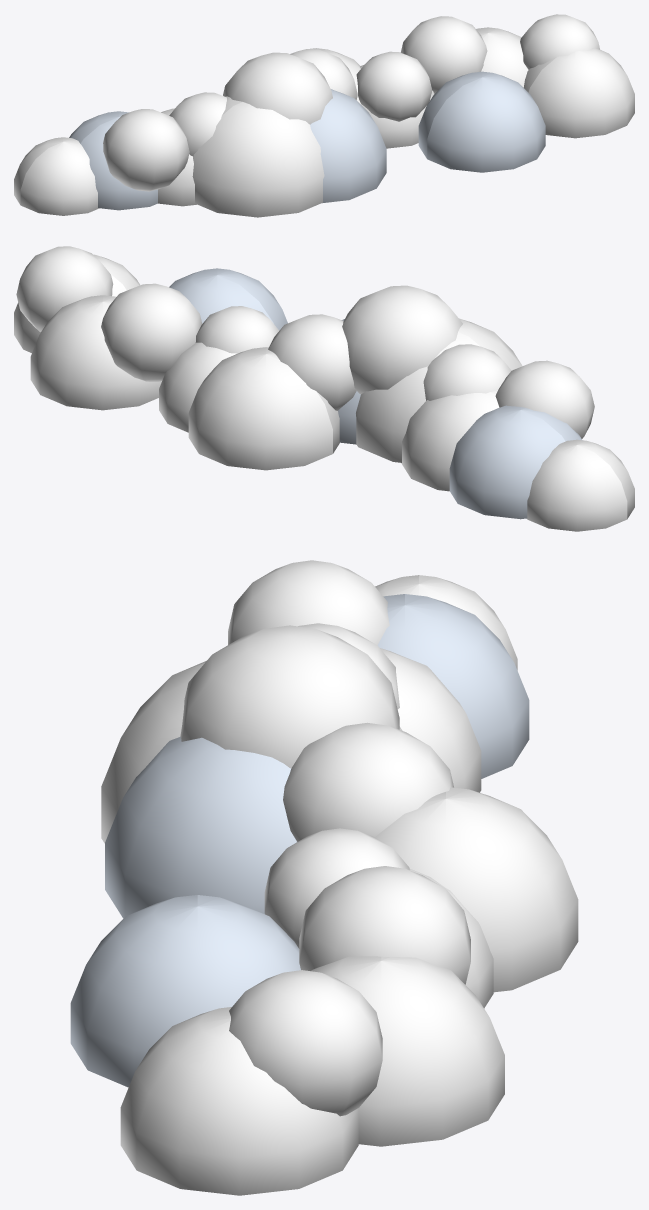
Rendered from CloudMedium.glb.
The picture shows the model from 3 angles, top to bottom: view 1: azimuth 30°, elevation 25°; view 2: azimuth 150°, elevation 25°; view 3: azimuth 270°, elevation 25°; orthographic projection. The views are drawn at different scales.
Visible parts, largest first — view 1: Body; view 2: Body; view 3: Body.
Part boxes in pixels (left/top/right/bottom): Body: left=14, top=14, right=634, bottom=217; Body: left=14, top=246, right=634, bottom=531; Body: left=70, top=560, right=578, bottom=1195.
Size of the model in its own units: 26.44 by 5.31 by 10.35.
1 material, 1 textured.
